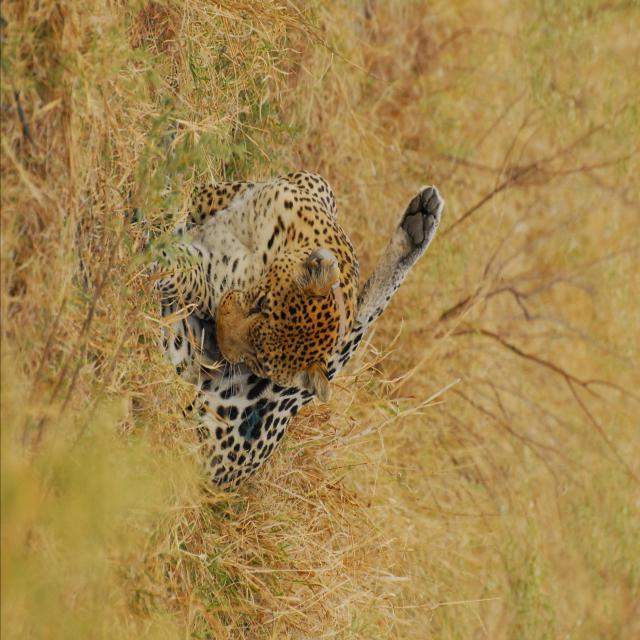Leopard: (120, 140, 480, 483)
